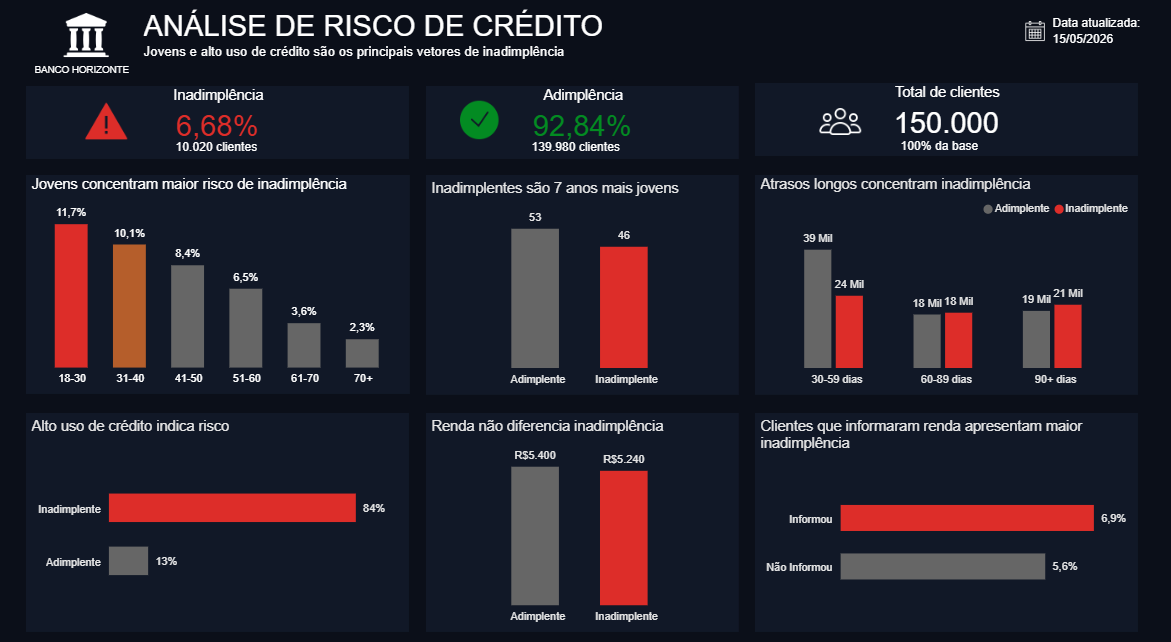

Layout of this report page (visuals, bound fields, positions):
{"tool":"powerbi","page":{"name":"Página 1","canvas":[1280,720],"ordinal":0},"visuals":[{"type":"image","box":[23.1,12.1,141.2,55.2],"z":0,"group":"g1"},{"type":"shape","box":[1107.4,18.7,145.2,58.3],"z":0},{"type":"textbox","box":[31.9,63.1,134.9,28.8],"z":1000,"group":"g1"},{"type":"clusteredBarChart","title":"Alto uso de crédito indica risco","fields":{"Category":["banco_horizonte_limpo.Status_Pagamento"],"Y":["Median(banco_horizonte_limpo.RevolvingUtilizationOfUnsecuredLines)"]},"box":[27.5,438.8,400,240],"z":1000},{"type":"clusteredBarChart","title":"Clientes que informaram renda apresentam maior inadimplência","fields":{"Category":["banco_horizonte_limpo.Renda_Informada"],"Y":["banco_horizonte_limpo.Taxa Inadimplência %"]},"box":[852.2,438.8,400,240],"z":2000},{"type":"clusteredColumnChart","title":"Atrasos longos concentram inadimplência","fields":{"Category":["Atrasos_Detalhado.Tipo_Atraso"],"Series":["Atrasos_Detalhado.Status"],"Y":["Sum(Atrasos_Detalhado.Qtd_Atraso)"]},"box":[852.2,183.6,400.3,240.8],"z":3000},{"type":"clusteredColumnChart","title":"Renda não diferencia inadimplência","fields":{"Category":["banco_horizonte_limpo.Status_Pagamento"],"Y":["Median(banco_horizonte_limpo.MonthlyIncome)"]},"box":[439.9,438.8,400.3,239.7],"z":4000},{"type":"cardVisual","title":"Total de clientes","fields":{"Data":["CountNonNull(banco_horizonte_limpo.RevolvingUtilizationOfUnsecuredLines)"]},"box":[852.2,89.1,400.3,80.3],"z":5000},{"type":"cardVisual","title":"Adimplência","fields":{"Data":["banco_horizonte_limpo.Taxa Adimplência %"]},"box":[439.9,89.1,400,80.3],"z":6000},{"type":"clusteredColumnChart","title":"Inadimplentes são 7 anos mais jovens","fields":{"Category":["banco_horizonte_limpo.Status_Pagamento"],"Y":["Avg(banco_horizonte_limpo.age)"]},"box":[439.9,183.6,400.3,240.8],"z":7000},{"type":"group","id":"g1","title":"Grupo 1","box":[23.1,12.1,143,79.2],"z":8000},{"type":"cardVisual","title":"Inadimplência","fields":{"Data":["banco_horizonte_limpo.Taxa Inadimplência %"]},"box":[27.5,89.1,400,80.3],"z":9000},{"type":"textbox","box":[151.2,6.5,629.7,84.8],"z":10000},{"type":"clusteredColumnChart","title":"Jovens concentram maior risco de inadimplência","fields":{"Category":["banco_horizonte_limpo.Faixa_Etaria"],"Y":["banco_horizonte_limpo.Taxa Inadimplência %"]},"box":[27.5,183.6,400,240.8],"z":11000},{"type":"image","box":[439.9,103.4,105.6,52.8],"z":12000},{"type":"image","box":[1108.5,35.2,34.1,28.6],"z":13000},{"type":"image","box":[852.2,105.6,105.6,50.6],"z":14000},{"type":"textbox","box":[1142.5,24.2,110,48.4],"z":15000},{"type":"image","box":[27.5,105.6,104.5,47.3],"z":16000}]}

Visuals, with their boxes in screenshot pixels (x1, y1, x2, y2), scaled from the page's 1280x720 canvas onto the 1171x642 screenshot:
image: box(21, 11, 150, 60)
shape: box(1013, 17, 1146, 69)
textbox: box(29, 56, 153, 82)
"Alto uso de crédito indica risco" clusteredBarChart: box(25, 391, 391, 605)
"Clientes que informaram renda apresentam maior inadimplência" clusteredBarChart: box(780, 391, 1146, 605)
"Atrasos longos concentram inadimplência" clusteredColumnChart: box(780, 164, 1146, 378)
"Renda não diferencia inadimplência" clusteredColumnChart: box(402, 391, 769, 605)
"Total de clientes" cardVisual: box(780, 79, 1146, 151)
"Adimplência" cardVisual: box(402, 79, 768, 151)
"Inadimplentes são 7 anos mais jovens" clusteredColumnChart: box(402, 164, 769, 378)
"Grupo 1" group: box(21, 11, 152, 81)
"Inadimplência" cardVisual: box(25, 79, 391, 151)
textbox: box(138, 6, 714, 81)
"Jovens concentram maior risco de inadimplência" clusteredColumnChart: box(25, 164, 391, 378)
image: box(402, 92, 499, 139)
image: box(1014, 31, 1045, 57)
image: box(780, 94, 876, 139)
textbox: box(1045, 22, 1146, 65)
image: box(25, 94, 121, 136)
